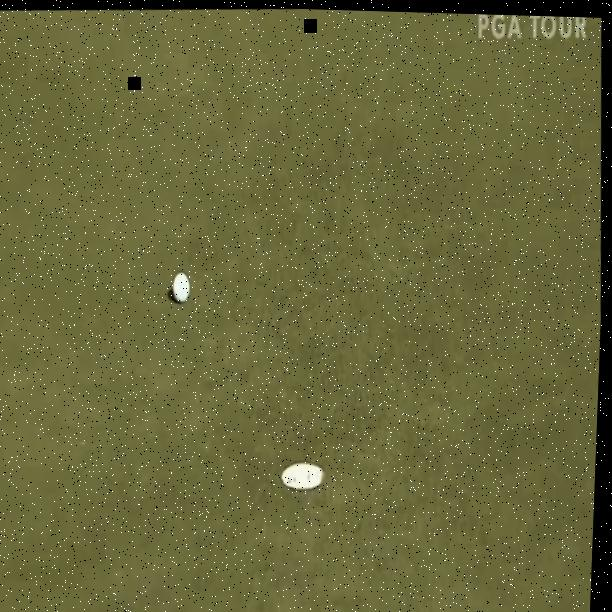GolfBall: (159, 255, 202, 319)
